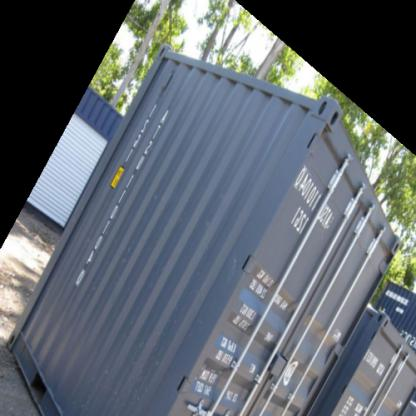Damage: (226, 250, 245, 300), (323, 129, 347, 162)
